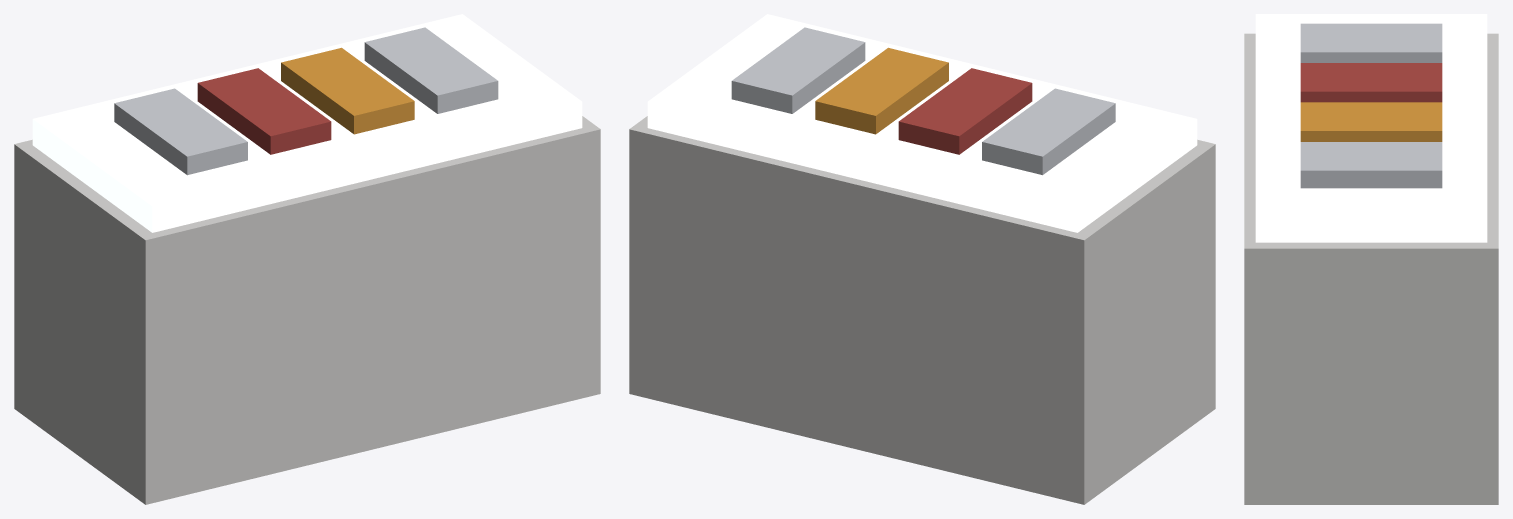
Rendered from prop_koori_case.glb.
The picture shows the model from 3 angles, left to right: view 1: azimuth 30°, elevation 25°; view 2: azimuth 150°, elevation 25°; view 3: azimuth 270°, elevation 25°; orthographic projection. The views are drawn at different scales.
Visible parts, largest first — view 1: koori_case; view 2: koori_case; view 3: koori_case.
Boxes of the visible parts, x1,y1,x2,y2 form: koori_case: [14, 14, 600, 504]; koori_case: [629, 14, 1215, 504]; koori_case: [1244, 14, 1498, 504].
Size of the model in its own units: 1.8 by 1.17 by 0.9.
